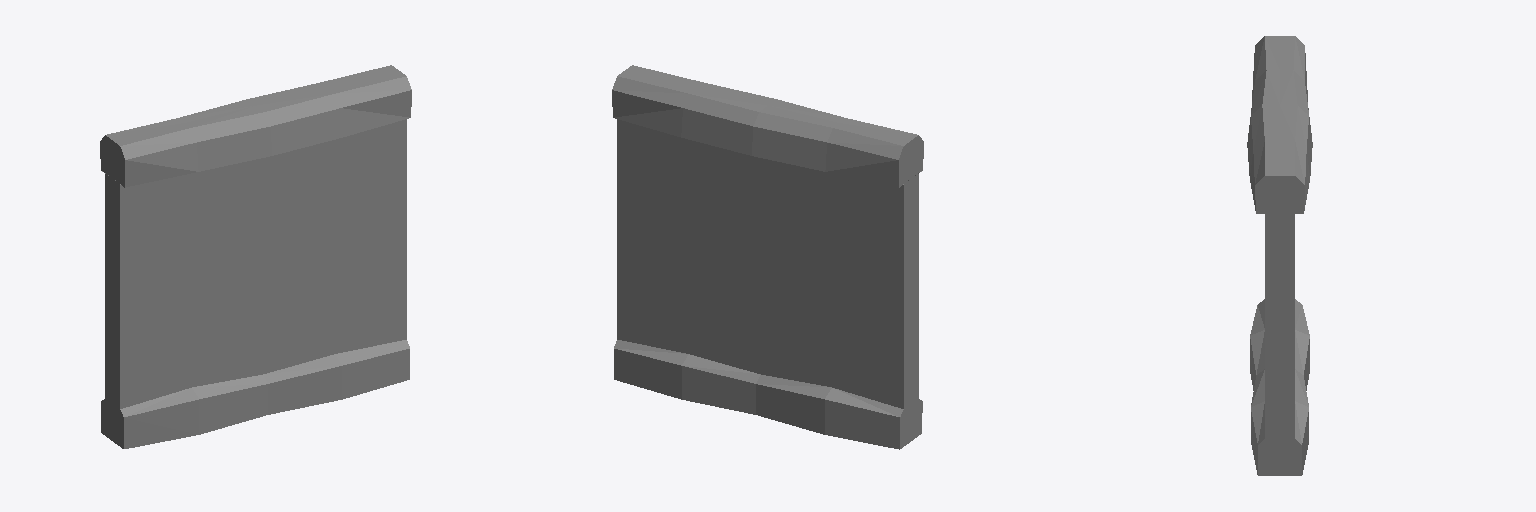
Rendered from WallRH.obj.
The picture shows the model from 3 angles: view 1: azimuth 30°, elevation 25°; view 2: azimuth 150°, elevation 25°; view 3: azimuth 270°, elevation 25°; orthographic projection.
Visible parts, largest first — view 1: TEMP; view 2: TEMP; view 3: TEMP.
Part boxes in pixels (x1,y1,x2,y2): TEMP: (100,65,411,448); TEMP: (612,65,923,449); TEMP: (1247,36,1312,475).
Size of the model in its own units: 128 by 128 by 25.35.